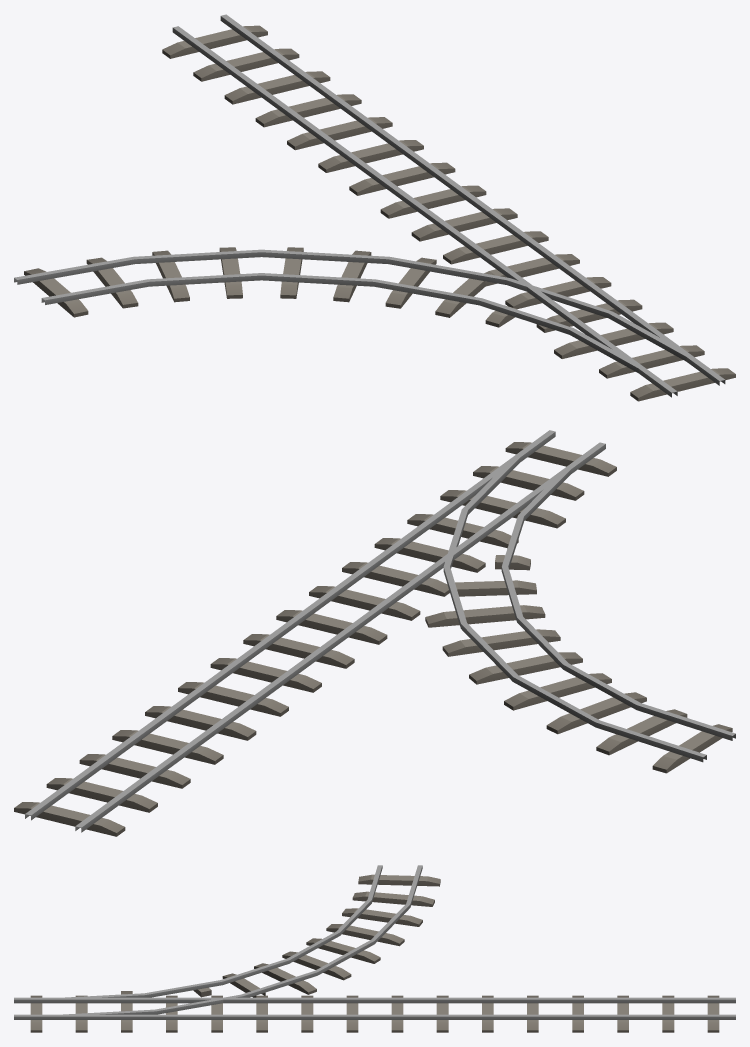
Rendered from Railway_Line_F_L.fbx.
The picture shows the model from 3 angles, top to bottom: view 1: azimuth 30°, elevation 25°; view 2: azimuth 150°, elevation 25°; view 3: azimuth 270°, elevation 25°; orthographic projection. The views are drawn at different scales.
Parts seen in each view (by area): view 1: Railway_Line_F_L; view 2: Railway_Line_F_L; view 3: Railway_Line_F_L.
Part boxes in pixels (x1=…): Railway_Line_F_L: x1=14, y1=14, x2=735, y2=401; Railway_Line_F_L: x1=14, y1=430, x2=735, y2=836; Railway_Line_F_L: x1=14, y1=865, x2=735, y2=1032.
Bounding box in the file's own units: 2087 × 51.82 × 4000.
